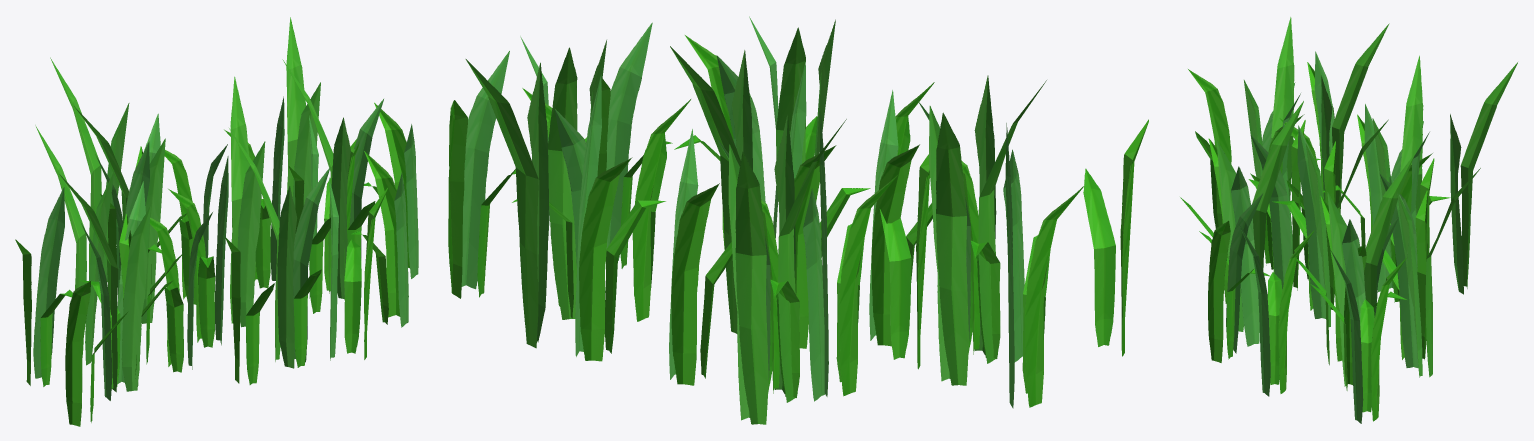
Rendered from grasscollection2.fbx.
The picture shows the model from 3 angles, left to right: view 1: azimuth 30°, elevation 25°; view 2: azimuth 150°, elevation 25°; view 3: azimuth 270°, elevation 25°; orthographic projection. The views are drawn at different scales.
Parts seen in each view (by area): view 1: grass_co_002; view 2: grass_co_002; view 3: grass_co_002.
Boxes of the visible parts, x1,y1,x2,y2 form: grass_co_002: (15,17,418,426); grass_co_002: (448,16,1148,424); grass_co_002: (1180,17,1517,423).
Size of the model in its own units: 59.48 by 30.99 by 41.25.
1 material, 1 textured.
